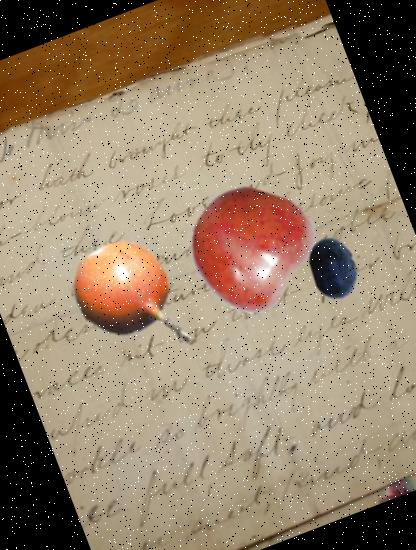Blueberry: (292, 227, 376, 310)
Cherry: (171, 169, 330, 329)
Granadilla: (44, 217, 220, 393)
